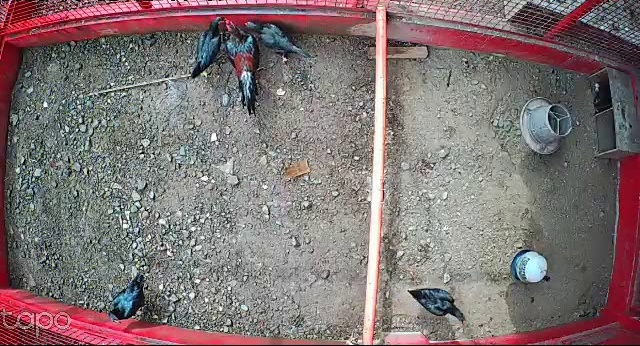Chicken: (241, 14, 317, 64), (108, 268, 161, 326), (406, 287, 469, 329), (191, 13, 226, 84)
Rooster: (219, 17, 268, 118)
